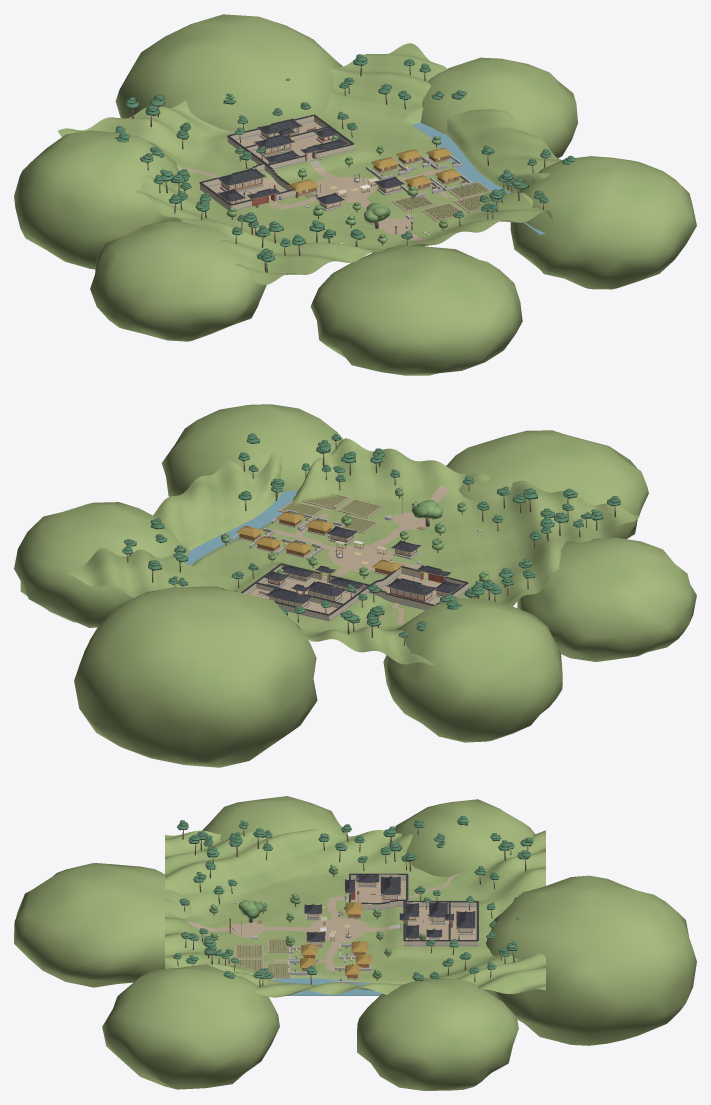
The model's file is joseon.glb.
The picture shows the model from 3 angles, top to bottom: view 1: azimuth 30°, elevation 25°; view 2: azimuth 150°, elevation 25°; view 3: azimuth 270°, elevation 25°; orthographic projection. The views are drawn at different scales.
Parts seen in each view (by area): view 1: static_grass, static_pine, static_dirt, static_tile, static_thatch, static_water, static_wood, static_rice, static_leaf2, static_paddy; view 2: static_grass, static_pine, static_dirt, static_tile, static_thatch, static_water, static_rice, static_wood, static_leaf2, static_paddy; view 3: static_grass, static_pine, static_dirt, static_tile, static_thatch, static_water, static_paddy, static_rice, static_leaf2, static_wood, static_leaf.
Part boxes in pixels (x1,y1,x2,y2): static_grass: (14,14,696,375); static_pine: (114,54,575,262); static_dirt: (177,121,491,241); static_tile: (199,114,404,205); static_thatch: (287,147,461,192); static_water: (412,122,545,234); static_wood: (217,126,458,221); static_rice: (332,183,487,219); static_leaf2: (226,135,447,243); static_paddy: (395,183,488,219); static_grass: (14,404,696,767); static_pine: (122,433,620,637); static_dirt: (249,485,449,625); static_tile: (241,525,468,615); static_thatch: (236,511,404,572); static_water: (185,490,298,565); static_rice: (283,494,379,562); static_wood: (239,497,462,607); static_leaf2: (221,487,489,581); static_paddy: (281,496,380,532); static_grass: (14,796,696,1090); static_pine: (173,815,533,980); static_dirt: (187,872,476,978); static_tile: (304,873,478,941); static_thatch: (300,902,371,974); static_water: (272,978,382,995); static_paddy: (236,940,292,977); static_rice: (237,925,347,976); static_leaf2: (209,864,425,978); static_wood: (241,875,475,978); static_leaf: (211,866,425,975).
Bounding box in the file's own units: 218 × 56.76 × 251.
29 materials, 6 textured.
